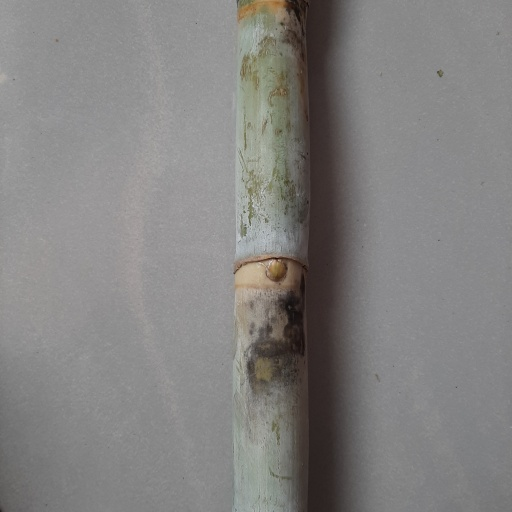Bud: (263, 259, 287, 283)
